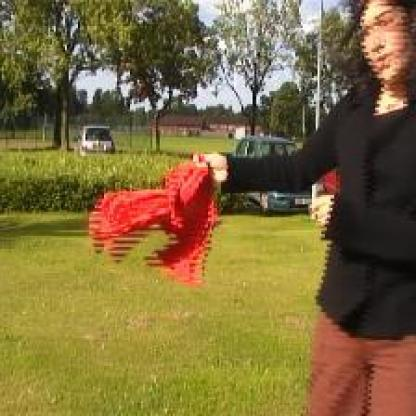other: (104, 152, 213, 281)
